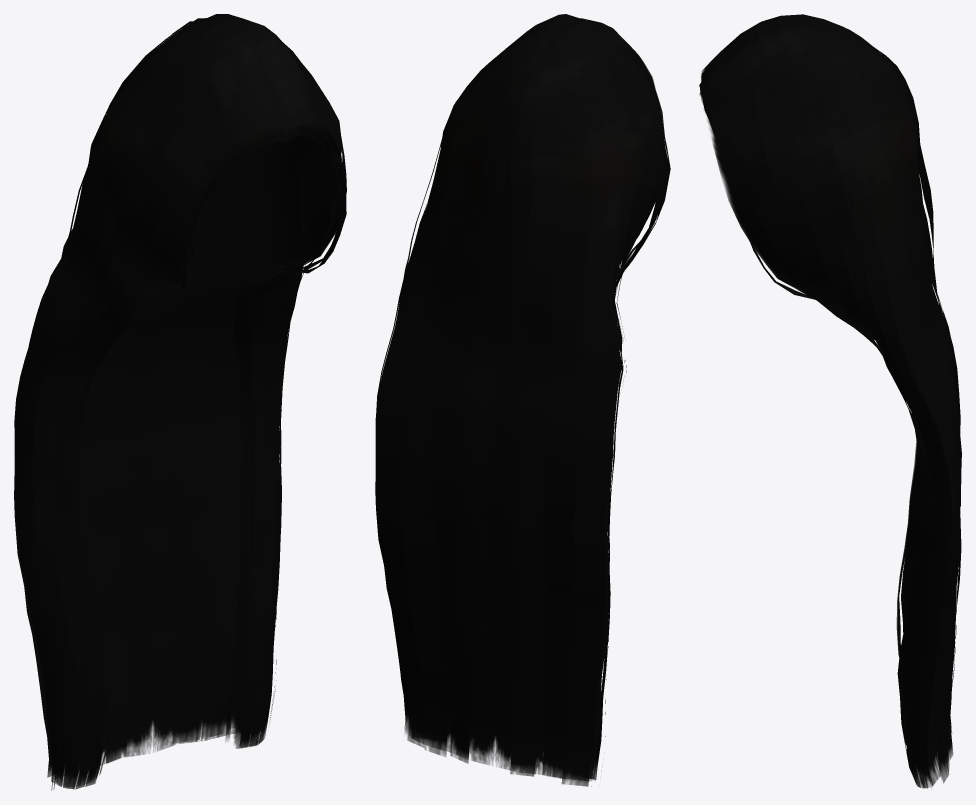
File: hair_bone.glb
3 renders of one model, left to right at view 1: azimuth 30°, elevation 25°; view 2: azimuth 150°, elevation 25°; view 3: azimuth 270°, elevation 25°, orthographic. The views are drawn at different scales.
Visible parts, largest first — view 1: hair_bone; view 2: hair_bone; view 3: hair_bone.
Part boxes in pixels (left/top/right/bottom): hair_bone: left=14, top=14, right=346, bottom=790; hair_bone: left=375, top=14, right=670, bottom=786; hair_bone: left=699, top=14, right=961, bottom=788.
Size of the model in its own units: 0.2576 by 0.7242 by 0.2368.
Materials: 1 (1 with a texture image).
